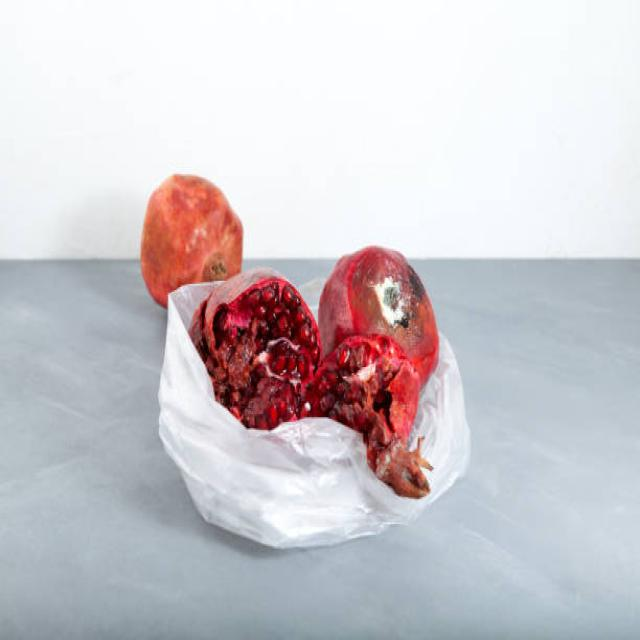Rotten: (322, 241, 439, 386)
